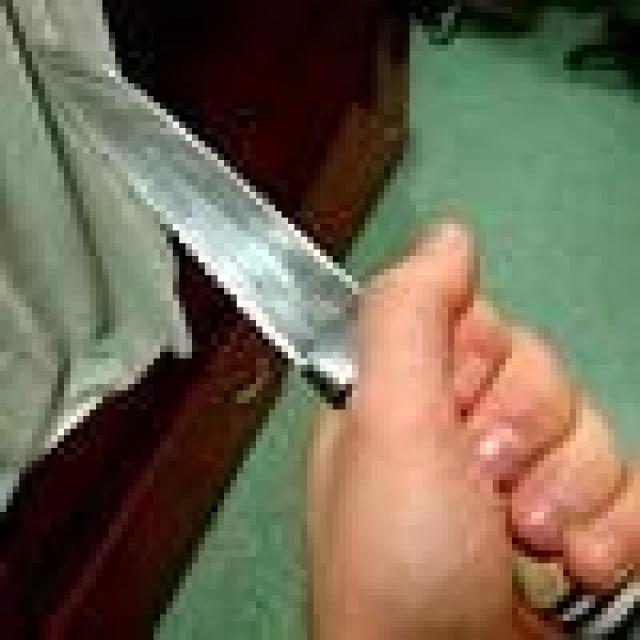senjata_tajam: (17, 38, 366, 408)
